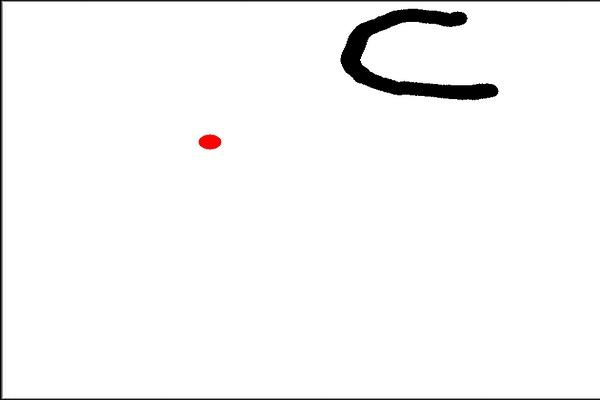C: (333, 0, 508, 108)
